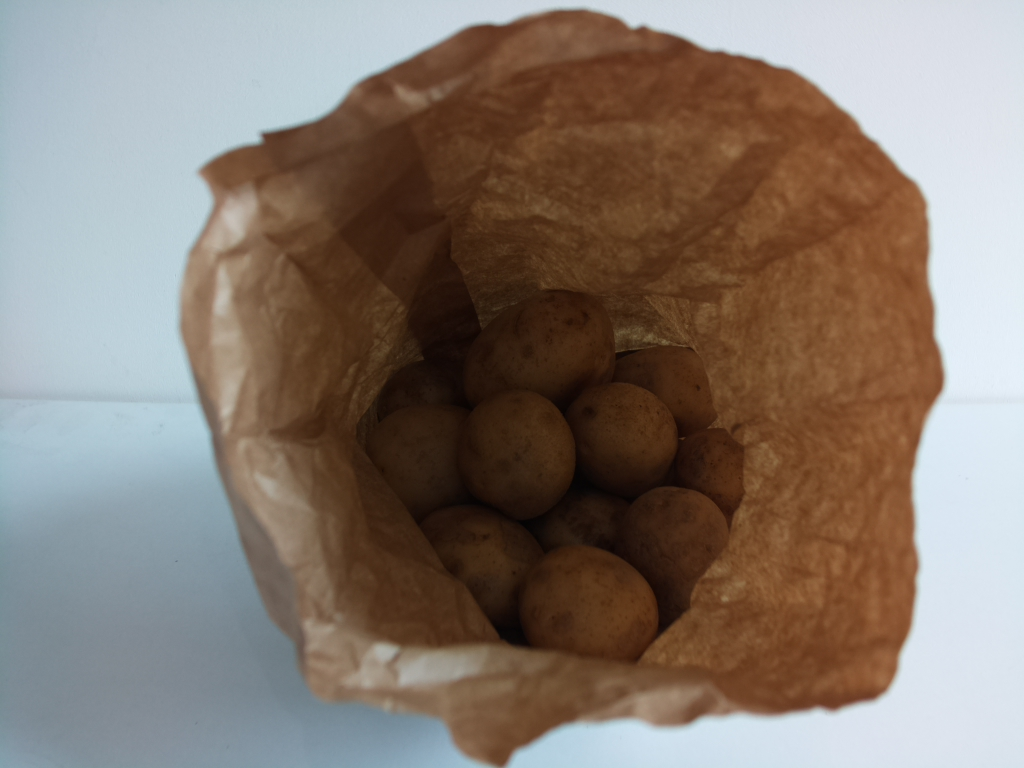potatoes: (363, 298, 759, 656)
